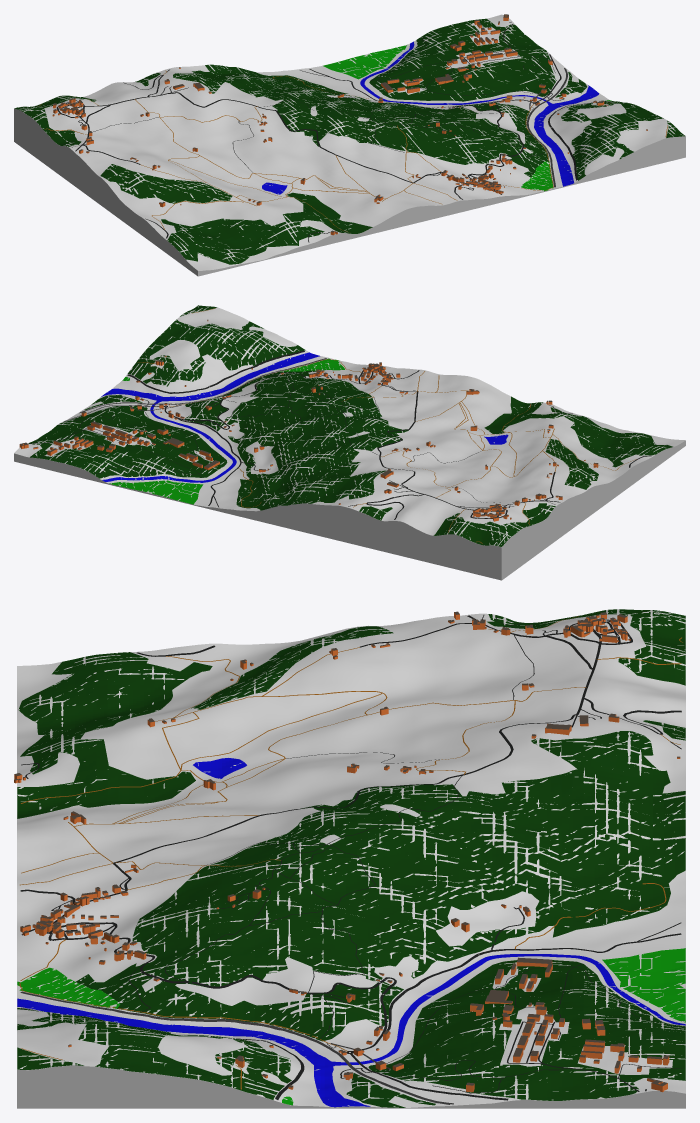
Rendered from map.obj.
The picture shows the model from 3 angles, top to bottom: view 1: azimuth 30°, elevation 25°; view 2: azimuth 150°, elevation 25°; view 3: azimuth 270°, elevation 25°; orthographic projection. The views are drawn at different scales.
Parts seen in each view (by area): view 1: Terrain, element.239, element.234, element.271, element.272, element.236, element.352, element.238, Arno, element.276; view 2: Terrain, element.239, element.234, element.271, element.236, element.352, Arno, element.238, element.272, element.268, element.276; view 3: Terrain, element.239, element.234, element.271, element.236, element.238, Arno, element.272, element.276, element.268, element.277, Via_Stazione.
Part boxes in pixels (x1,y1,x2,y2): Terrain: [14, 14, 685, 276]; element.239: [14, 64, 549, 177]; element.234: [369, 18, 556, 101]; element.271: [161, 192, 372, 264]; element.272: [100, 164, 232, 203]; element.236: [561, 101, 684, 137]; element.352: [571, 130, 633, 180]; element.238: [323, 45, 406, 79]; Arno: [534, 85, 599, 186]; element.276: [521, 161, 553, 191]; Terrain: [14, 306, 685, 580]; element.239: [184, 370, 549, 546]; element.234: [29, 406, 227, 478]; element.271: [484, 396, 672, 467]; element.236: [127, 305, 235, 386]; element.352: [221, 321, 305, 370]; Arno: [101, 352, 319, 401]; element.238: [109, 480, 203, 504]; element.272: [545, 439, 598, 489]; element.268: [153, 426, 236, 482]; element.276: [280, 358, 344, 371]; Terrain: [17, 609, 685, 1108]; element.239: [76, 609, 685, 1041]; element.234: [368, 960, 685, 1100]; element.271: [17, 652, 212, 818]; element.236: [17, 1020, 291, 1099]; element.238: [602, 948, 685, 1022]; Arno: [17, 998, 370, 1107]; element.272: [191, 626, 393, 709]; element.276: [17, 967, 120, 1008]; element.268: [401, 954, 630, 1019]; element.277: [346, 1073, 435, 1107]; Via_Stazione: [382, 933, 681, 1035].
Bounding box in the file's own units: 2796 × 251 × 1833.
